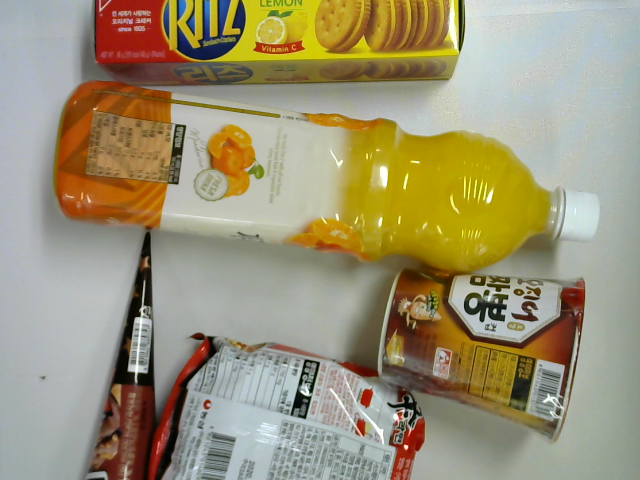GooGoo_Cone_CVS: (78, 227, 156, 480)
Jeju_Tangerine_1.5L: (53, 80, 602, 278)
Ojjam: (372, 265, 592, 444)
Ritz_Remon_96g: (89, 1, 468, 84)
Sinramen: (142, 330, 429, 480)
